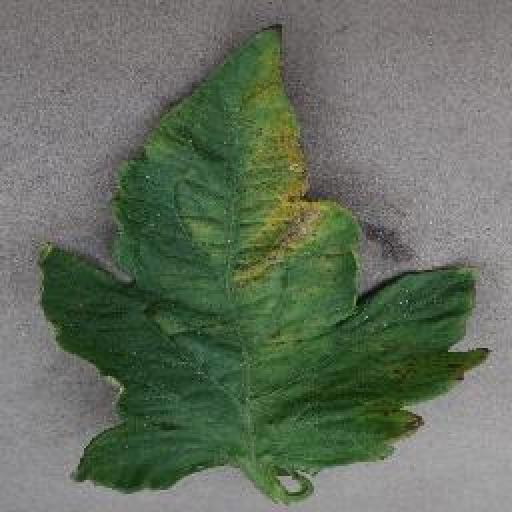Bacterial Spot: (30, 18, 494, 494)
